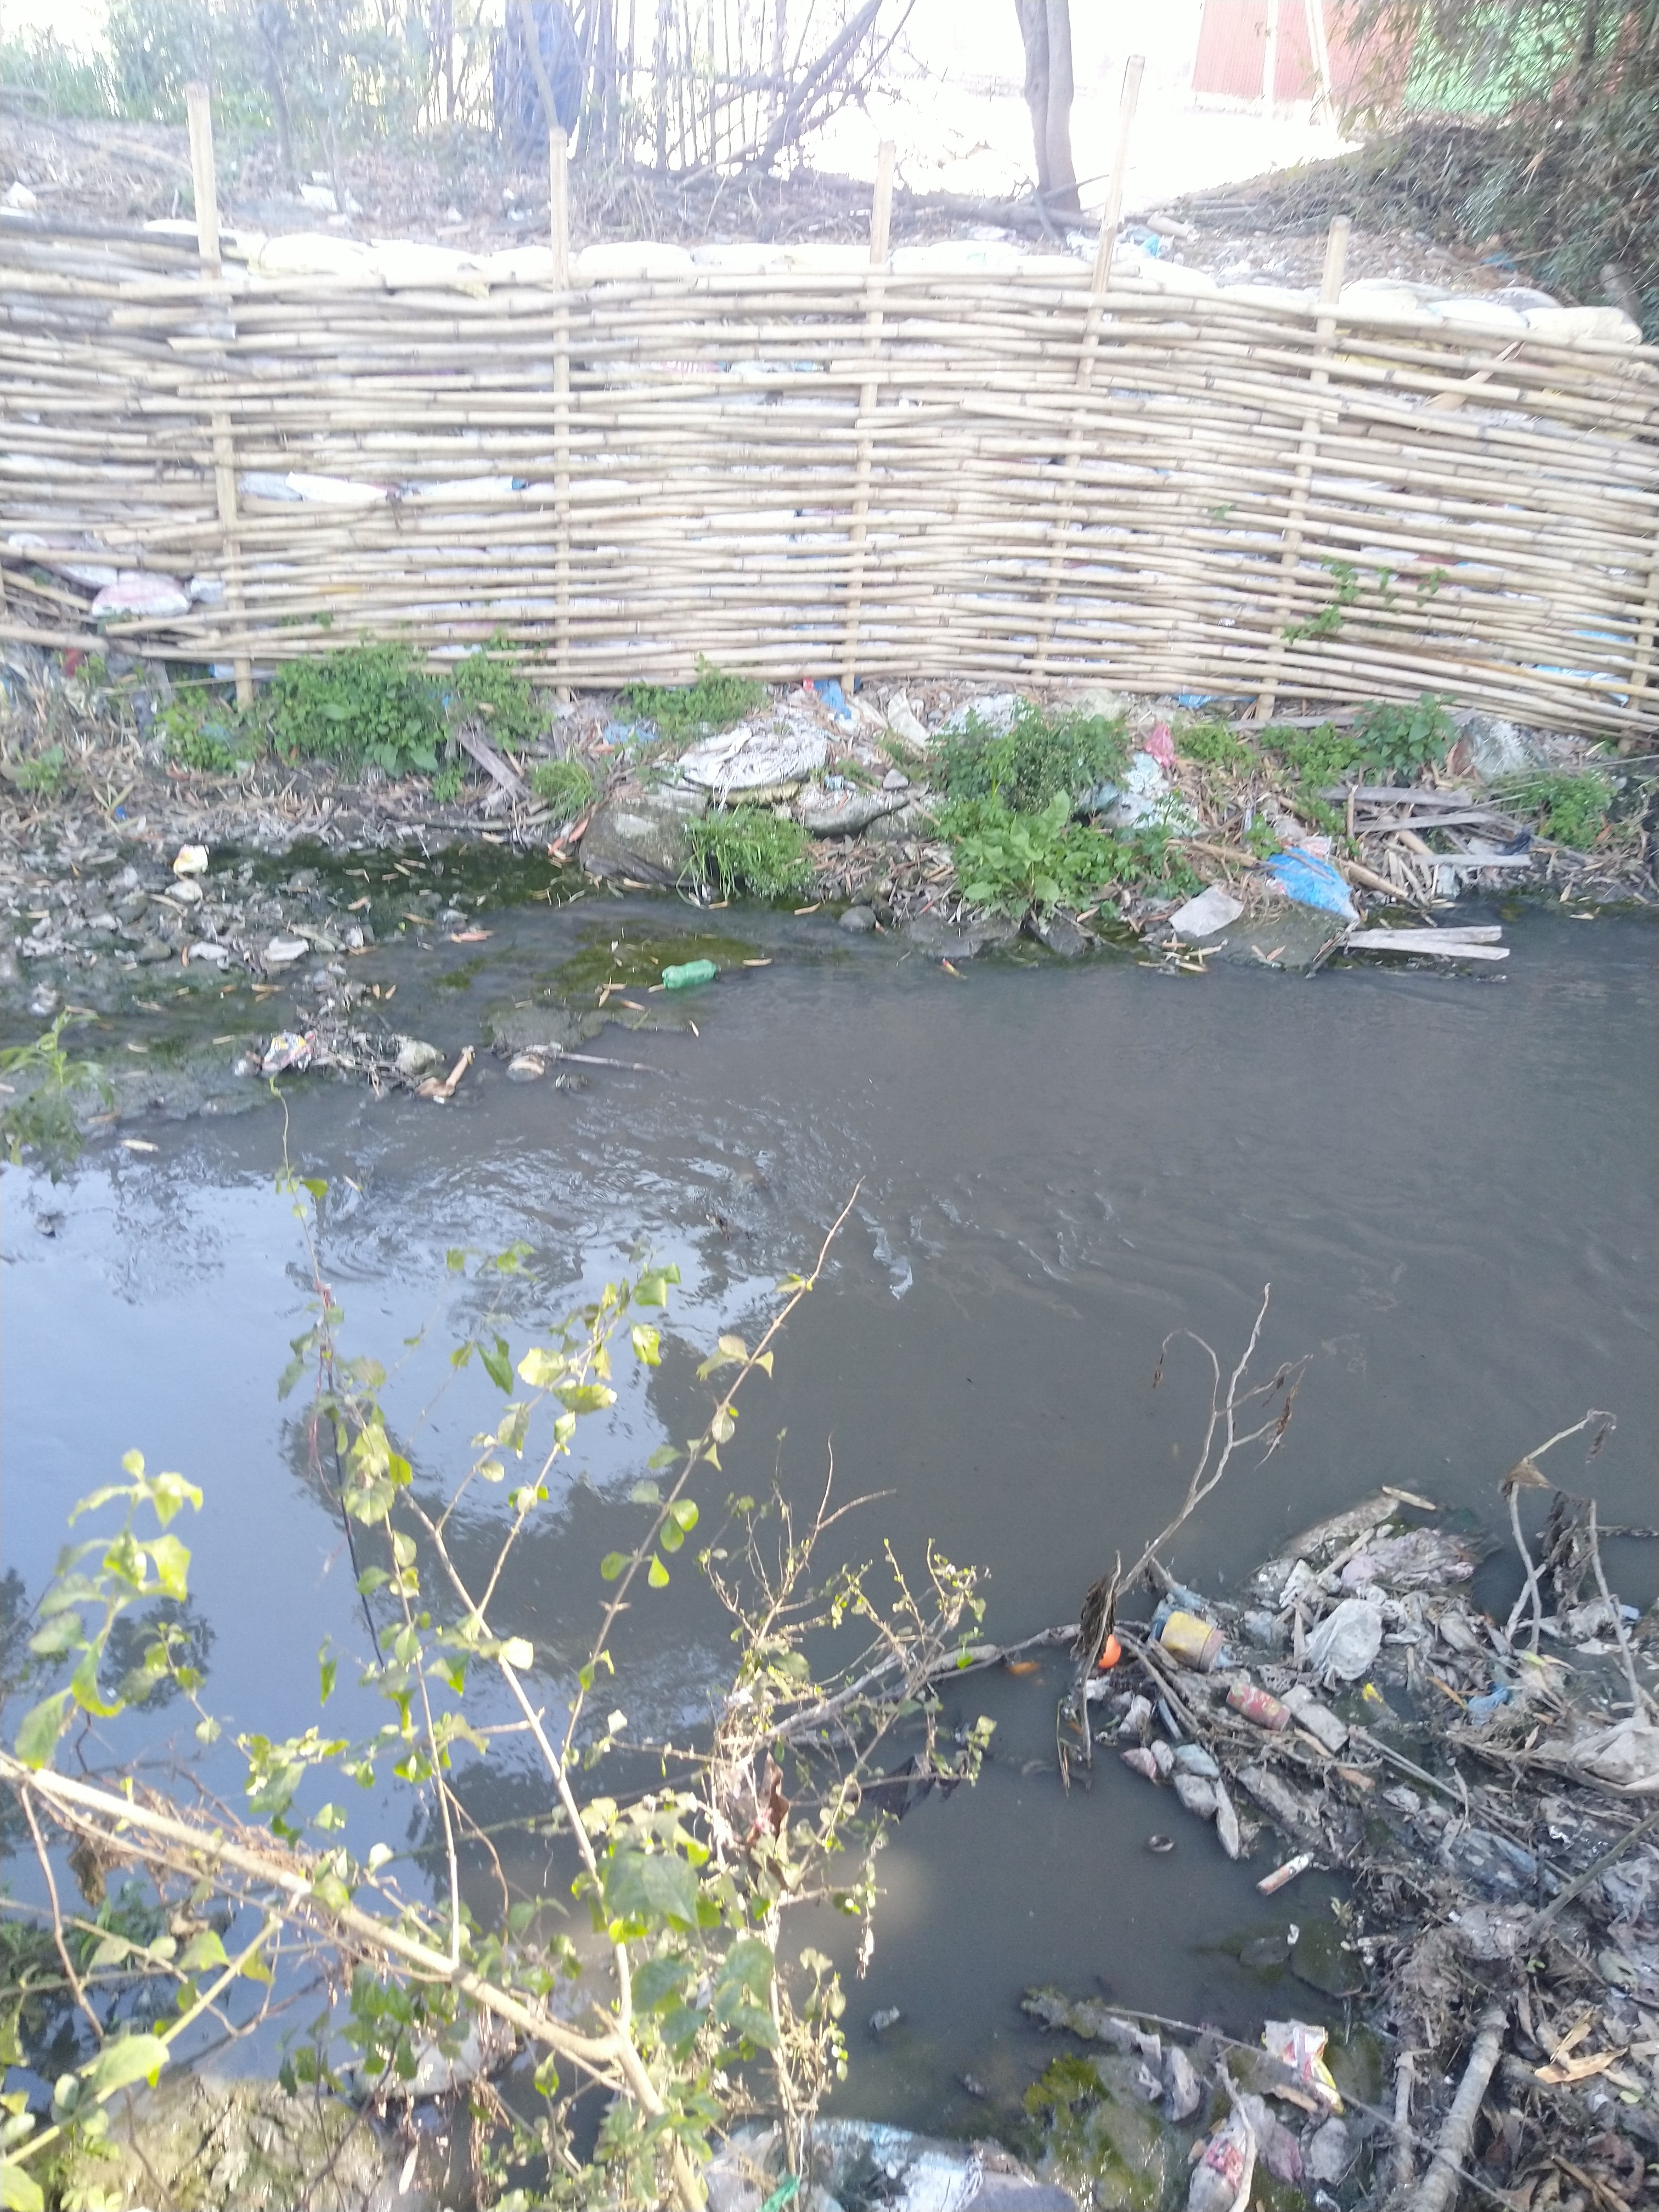Plastic Bottle: (352, 2019, 514, 2097), (1185, 2092, 1276, 2212), (662, 958, 721, 989)
